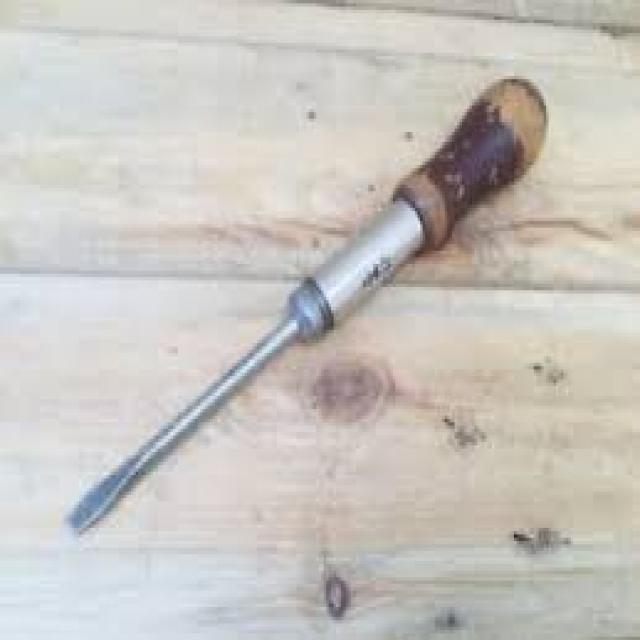screwdriver: (63, 78, 550, 536)
